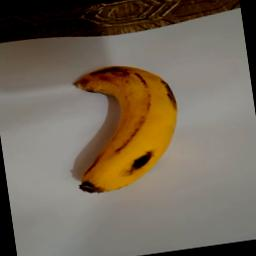Banana Unripe: (62, 54, 190, 200)
